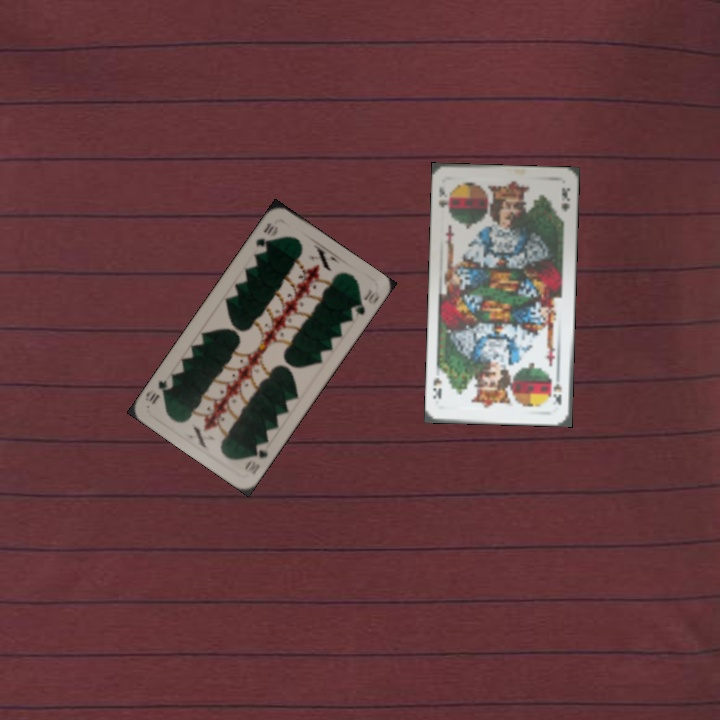G10: (240, 438, 271, 472), (251, 218, 281, 251)
SK: (434, 182, 453, 216), (549, 370, 564, 407)
